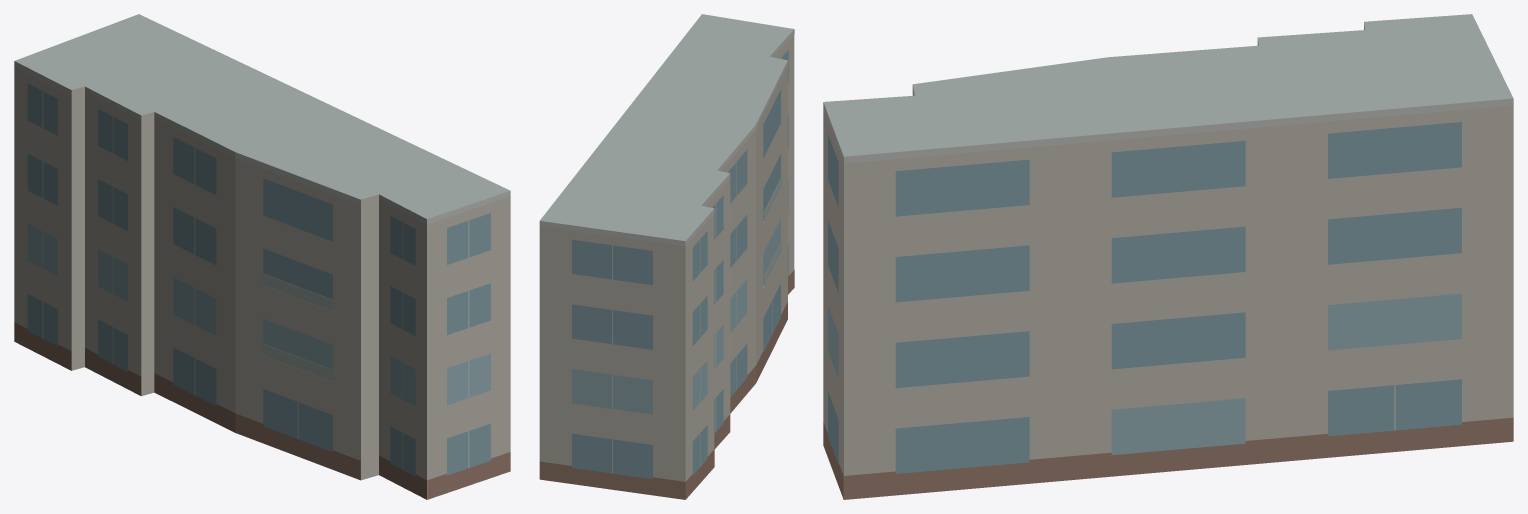
Rendered from survey-upis-32643820.glb.
3 views of the same model, side by side, from view 1: azimuth 30°, elevation 25°; view 2: azimuth 150°, elevation 25°; view 3: azimuth 270°, elevation 25° (orthographic). The views are drawn at different scales.
Visible parts, largest first — view 1: survey-upis-32643820.tmp; view 2: survey-upis-32643820.tmp; view 3: survey-upis-32643820.tmp.
Boxes of the visible parts, bbox=[...] form: survey-upis-32643820.tmp: bbox=[14, 14, 510, 499]; survey-upis-32643820.tmp: bbox=[539, 14, 794, 499]; survey-upis-32643820.tmp: bbox=[823, 14, 1513, 499].
Bounding box in the file's own units: 10.89 × 12.2 × 22.25.
